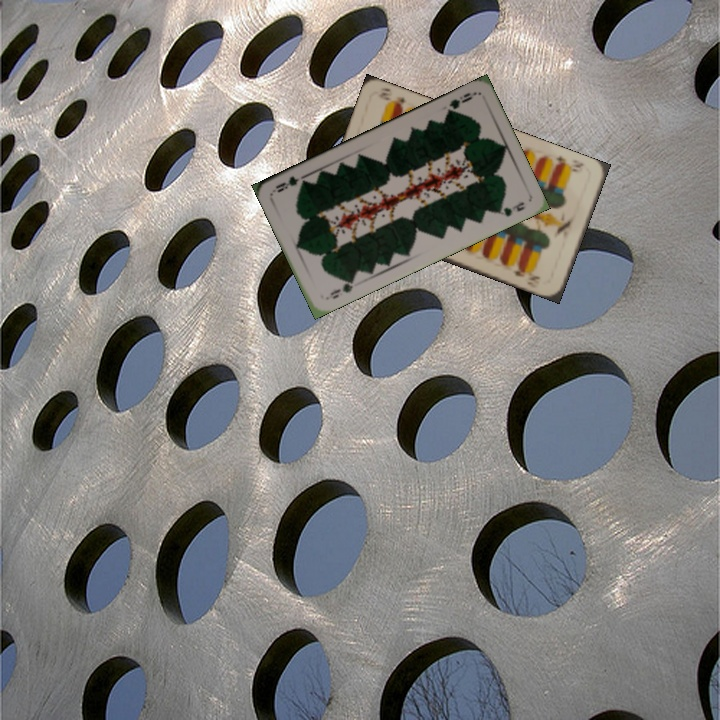E10: (552, 151, 586, 175)
G9: (443, 88, 478, 117), (321, 274, 357, 302)
